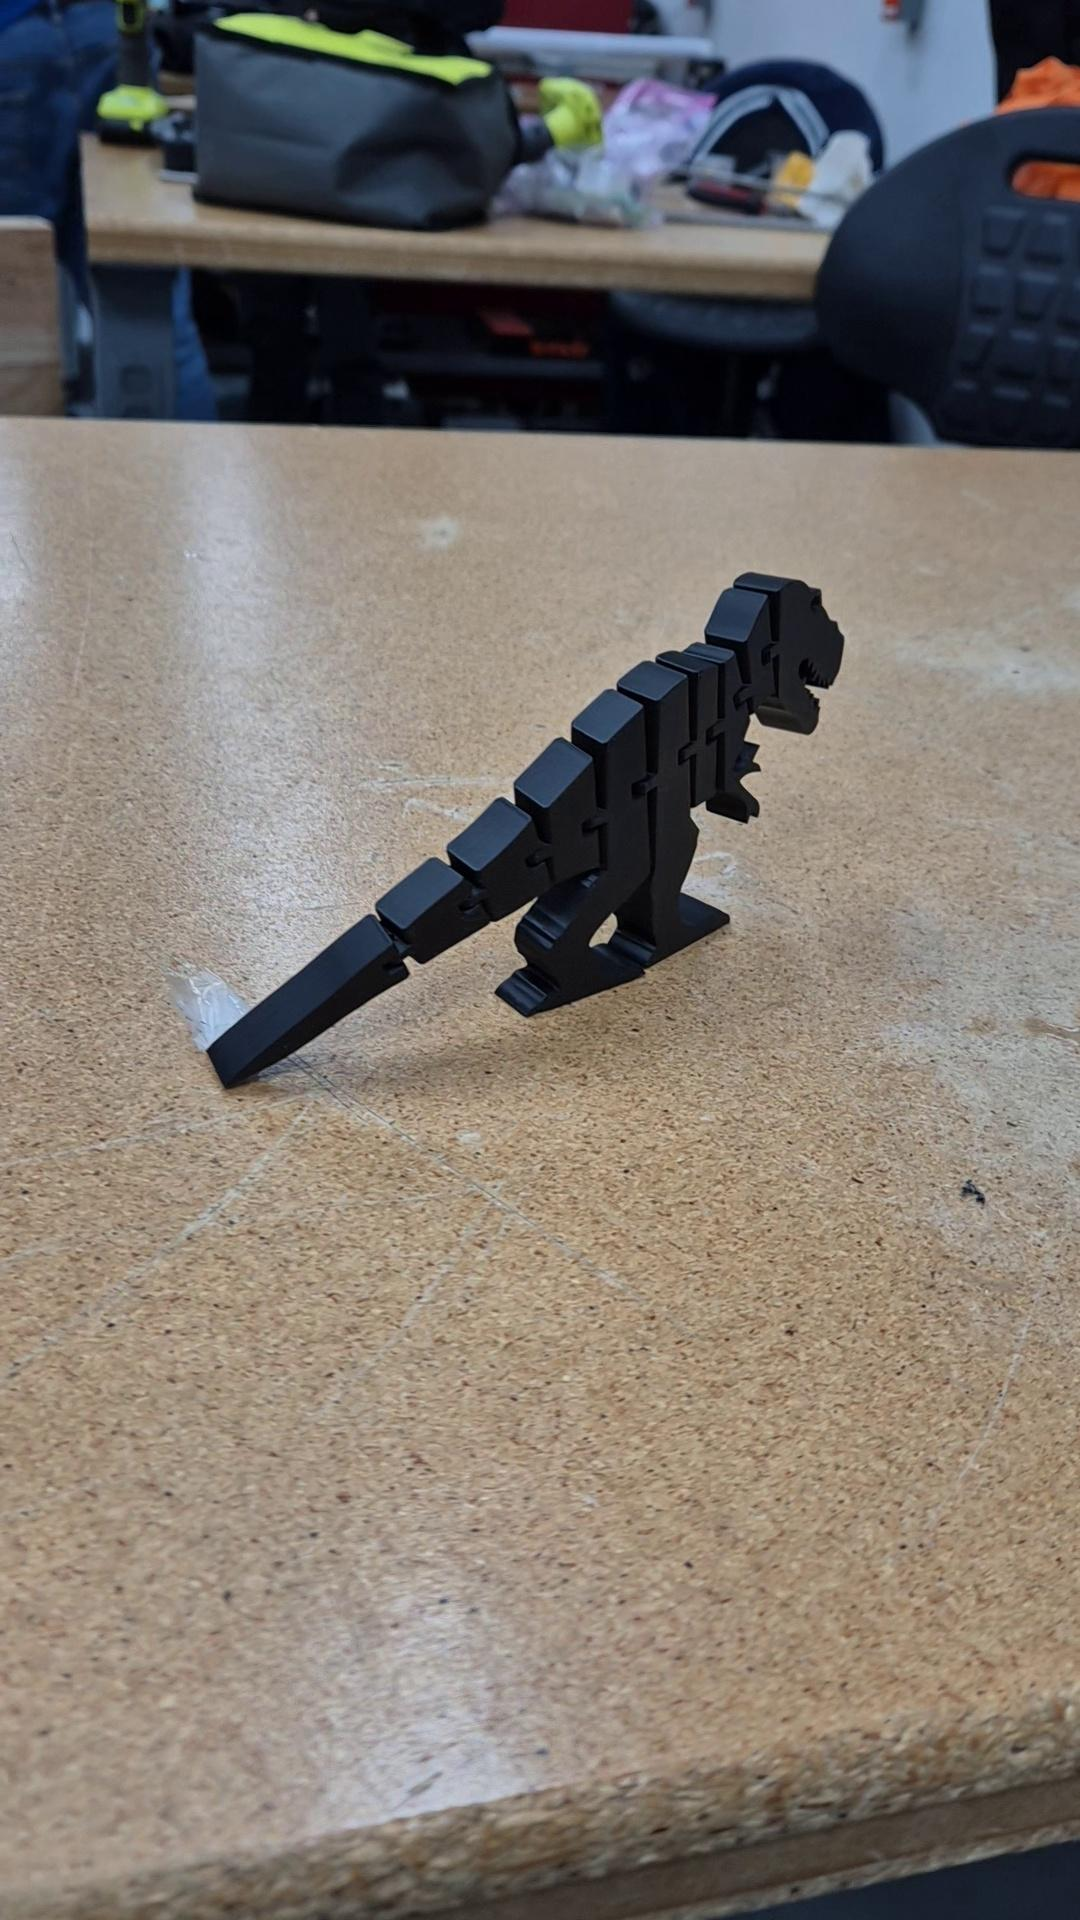dinosaur: (203, 568, 847, 1092)
